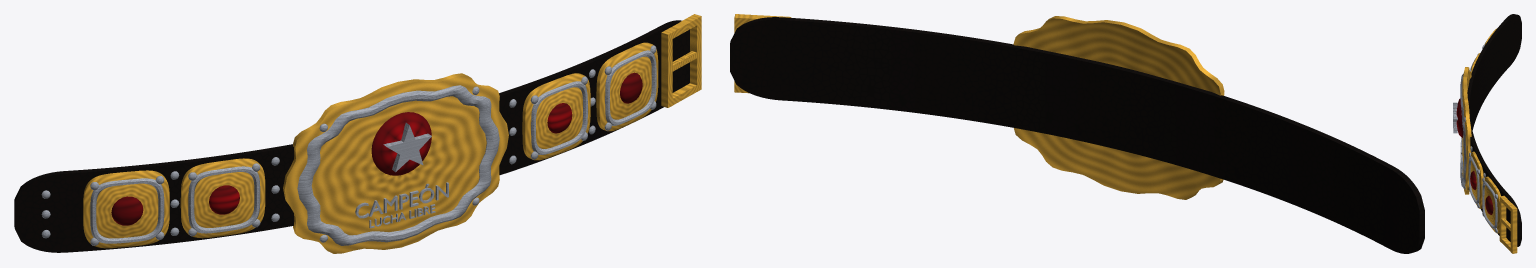
Rendered from cinturon_curvado.obj.
3 renders of one model, left to right at view 1: azimuth 30°, elevation 25°; view 2: azimuth 150°, elevation 25°; view 3: azimuth 270°, elevation 25°, orthographic. The views are drawn at different scales.
Visible parts, largest first — view 1: Placa_Central_Curvado, Correa_Cinturon_Curvado, Marco_Central_Curvado, Marcos_Laterales_Curvado, Placa_Lateral_Izq_02_Curvado, Placa_Lateral_Izq_01_Curvado, Placa_Lateral_Der_01_Curvado, Placa_Lateral_Der_02_Curvado, Gemas_Laterales_Curvado, Hebilla_Curvado, Medallon_Central_Curvado, Remaches_Curvado (+3 smaller); view 2: Correa_Cinturon_Curvado, Placa_Central_Curvado, Hebilla_Curvado; view 3: Correa_Cinturon_Curvado, Hebilla_Curvado, Placa_Central_Curvado, Marcos_Laterales_Curvado, Placa_Lateral_Der_02_Curvado, Placa_Lateral_Der_01_Curvado, Marco_Central_Curvado, Gemas_Laterales_Curvado, Medallon_Central_Curvado, Remaches_Curvado, Estrella_Central_Curvado, Texto_Campeon_Curvado (+1 smaller).
Boxes of the visible parts, x1,y1,x2,y2 form: Placa_Central_Curvado: (283, 73, 508, 253); Correa_Cinturon_Curvado: (14, 20, 689, 252); Marco_Central_Curvado: (297, 85, 499, 245); Marcos_Laterales_Curvado: (90, 50, 656, 243); Placa_Lateral_Izq_02_Curvado: (83, 170, 169, 248); Placa_Lateral_Izq_01_Curvado: (180, 158, 265, 238); Placa_Lateral_Der_01_Curvado: (522, 73, 590, 160); Placa_Lateral_Der_02_Curvado: (596, 42, 658, 131); Gemas_Laterales_Curvado: (111, 72, 642, 225); Hebilla_Curvado: (661, 14, 701, 107); Medallon_Central_Curvado: (371, 112, 431, 175); Remaches_Curvado: (41, 45, 656, 245); Correa_Cinturon_Curvado: (730, 17, 1424, 253); Placa_Central_Curvado: (1013, 16, 1224, 199); Hebilla_Curvado: (734, 14, 791, 93); Correa_Cinturon_Curvado: (1467, 14, 1521, 246); Hebilla_Curvado: (1499, 195, 1517, 253); Placa_Central_Curvado: (1462, 67, 1471, 194); Marcos_Laterales_Curvado: (1468, 42, 1497, 229); Placa_Lateral_Der_02_Curvado: (1484, 176, 1500, 233); Placa_Lateral_Der_01_Curvado: (1470, 151, 1483, 208); Marco_Central_Curvado: (1460, 74, 1466, 187); Gemas_Laterales_Curvado: (1470, 171, 1493, 214); Medallon_Central_Curvado: (1456, 98, 1463, 137); Remaches_Curvado: (1463, 45, 1497, 232); Estrella_Central_Curvado: (1453, 102, 1457, 133); Texto_Campeon_Curvado: (1460, 137, 1462, 169).
Bounding box in the file's own units: 1.26 × 0.2898 × 0.1822.
Materials: 4 (4 with a texture image).
